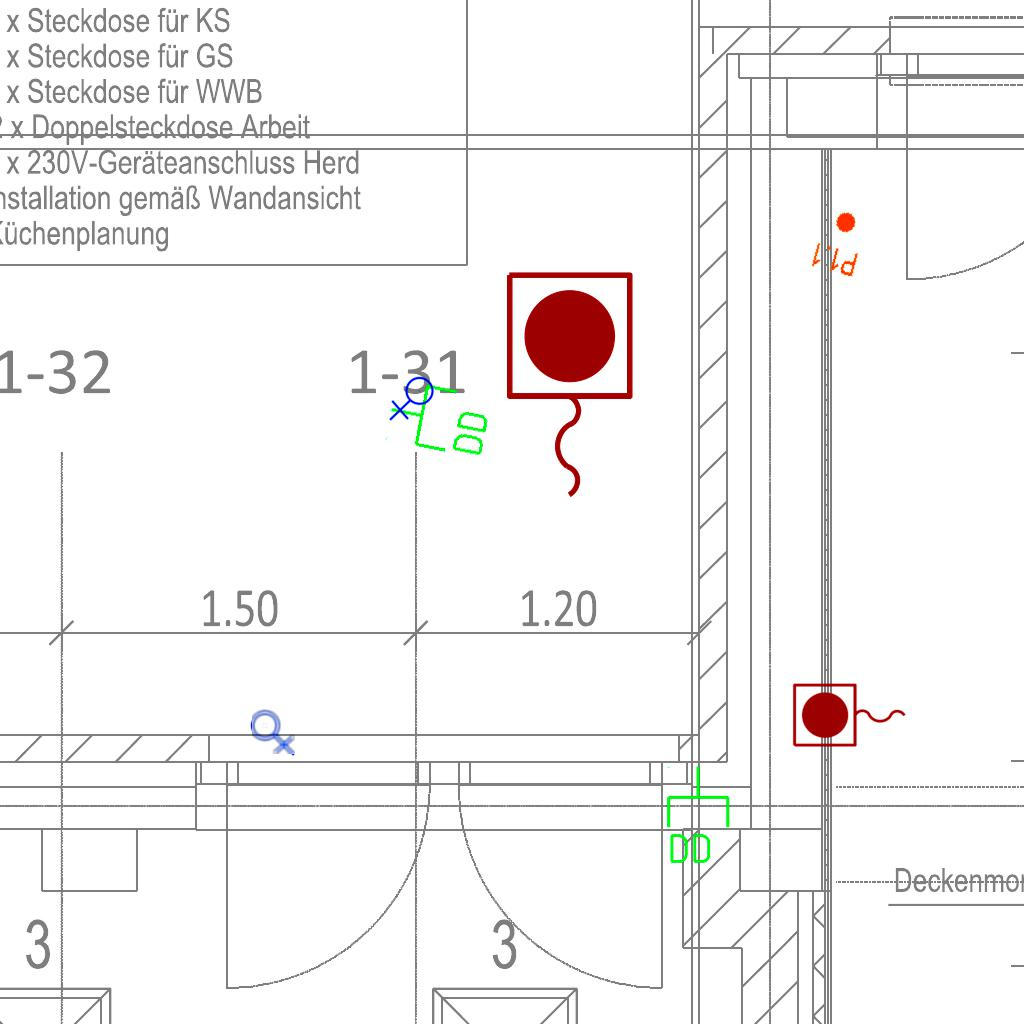Datenanschluss_zweifach: (382, 375, 497, 464), (663, 764, 732, 867)
Downlight_LED_Einbauleuchten_Flur: (808, 205, 870, 279)
Elektroanschluss_allgemein_230V_Geraeteanschlussdose_230V: (250, 707, 297, 756), (389, 376, 438, 423)
Zugtaster: (496, 264, 640, 508), (789, 680, 911, 752)
